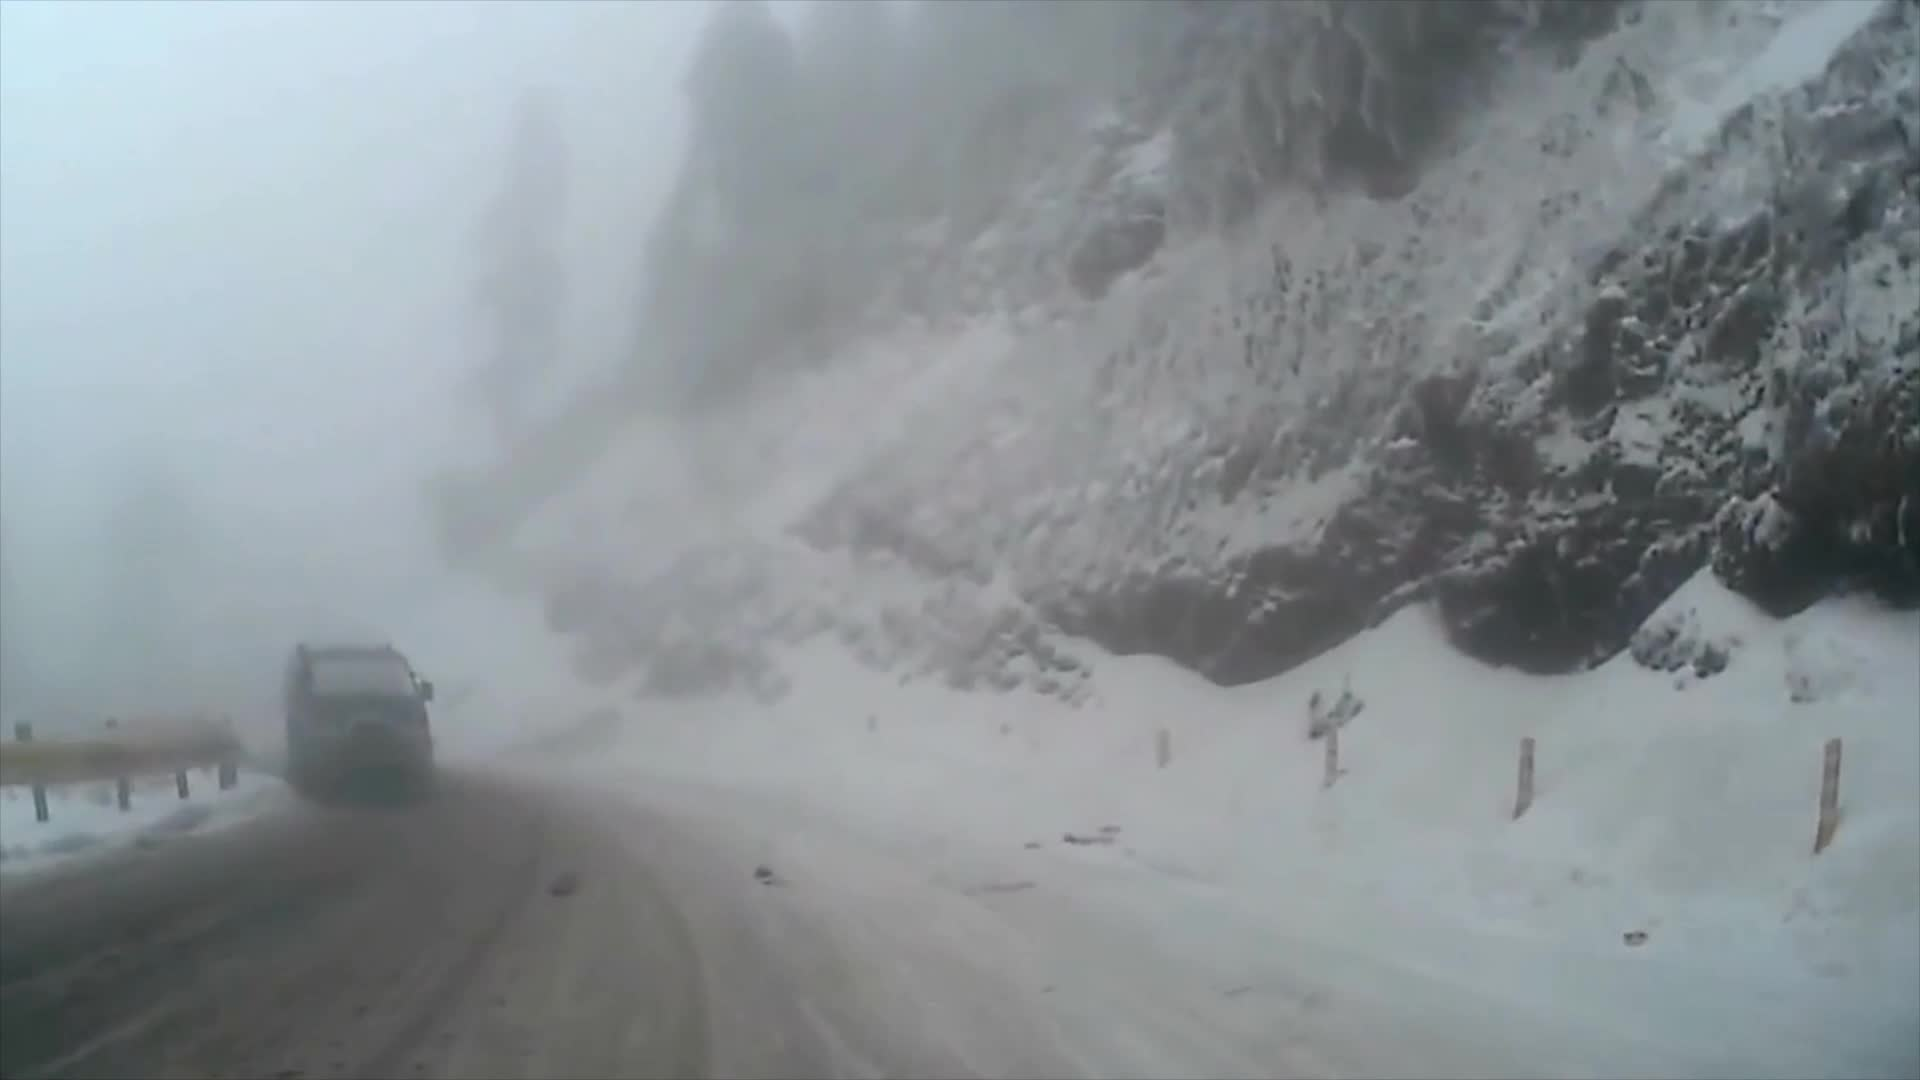vehicle: (282, 636, 433, 802)
